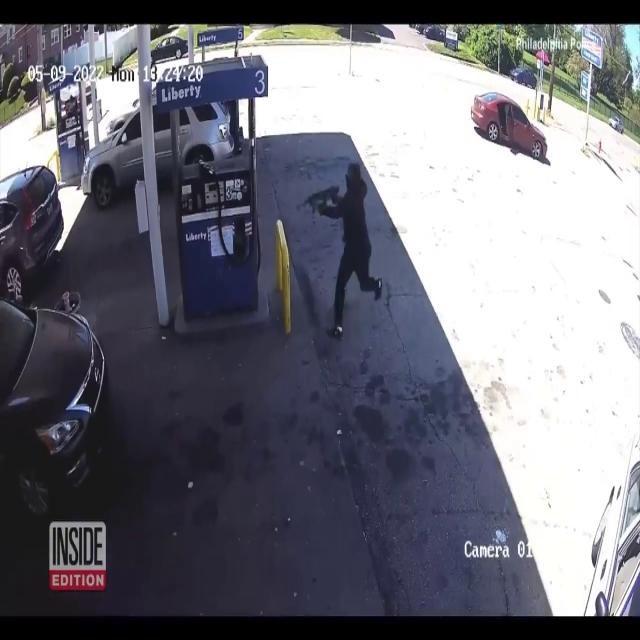penembakan: (297, 156, 389, 358)
